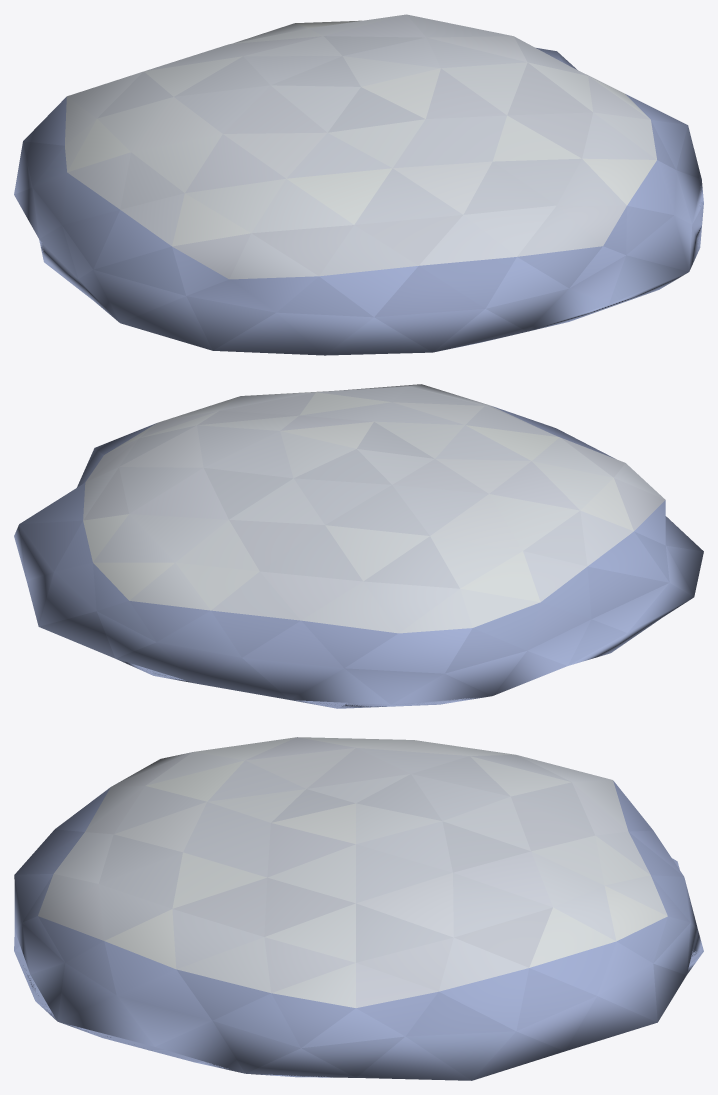
The model's file is SM_Winter_SnowPile.fbx.
The picture shows the model from 3 angles, top to bottom: view 1: azimuth 30°, elevation 25°; view 2: azimuth 150°, elevation 25°; view 3: azimuth 270°, elevation 25°; orthographic projection. The views are drawn at different scales.
Parts seen in each view (by area): view 1: SM_Winter_SnowPile; view 2: SM_Winter_SnowPile; view 3: SM_Winter_SnowPile.
Part boxes in pixels (left/top/right/bottom): SM_Winter_SnowPile: left=14, top=14, right=703, bottom=355; SM_Winter_SnowPile: left=14, top=384, right=703, bottom=708; SM_Winter_SnowPile: left=14, top=737, right=703, bottom=1080.
Bounding box in the file's own units: 19.92 × 3.92 × 19.37.
